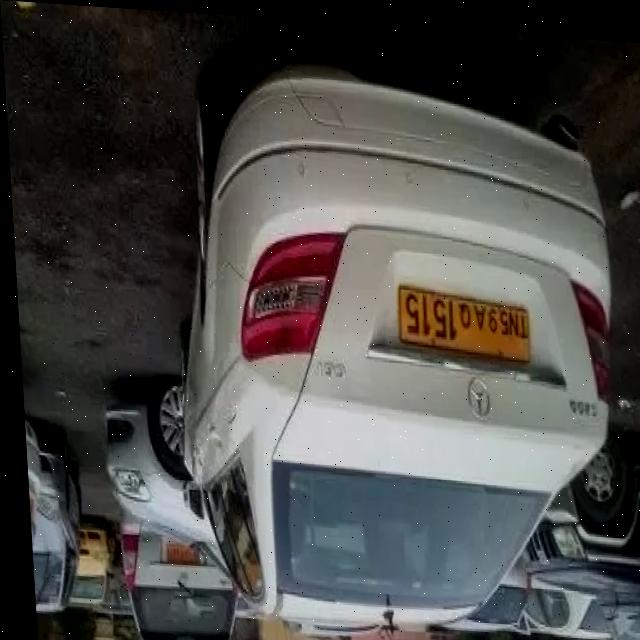plate: (388, 273, 535, 364), (157, 539, 192, 564)
